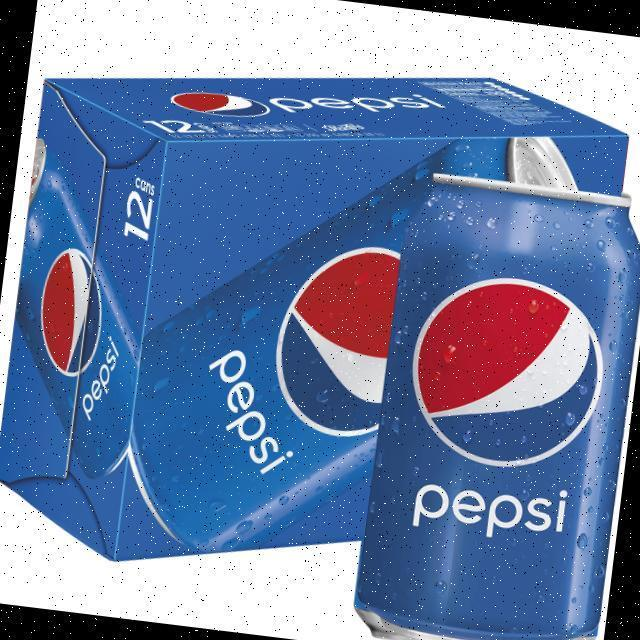can: (339, 152, 640, 640)
